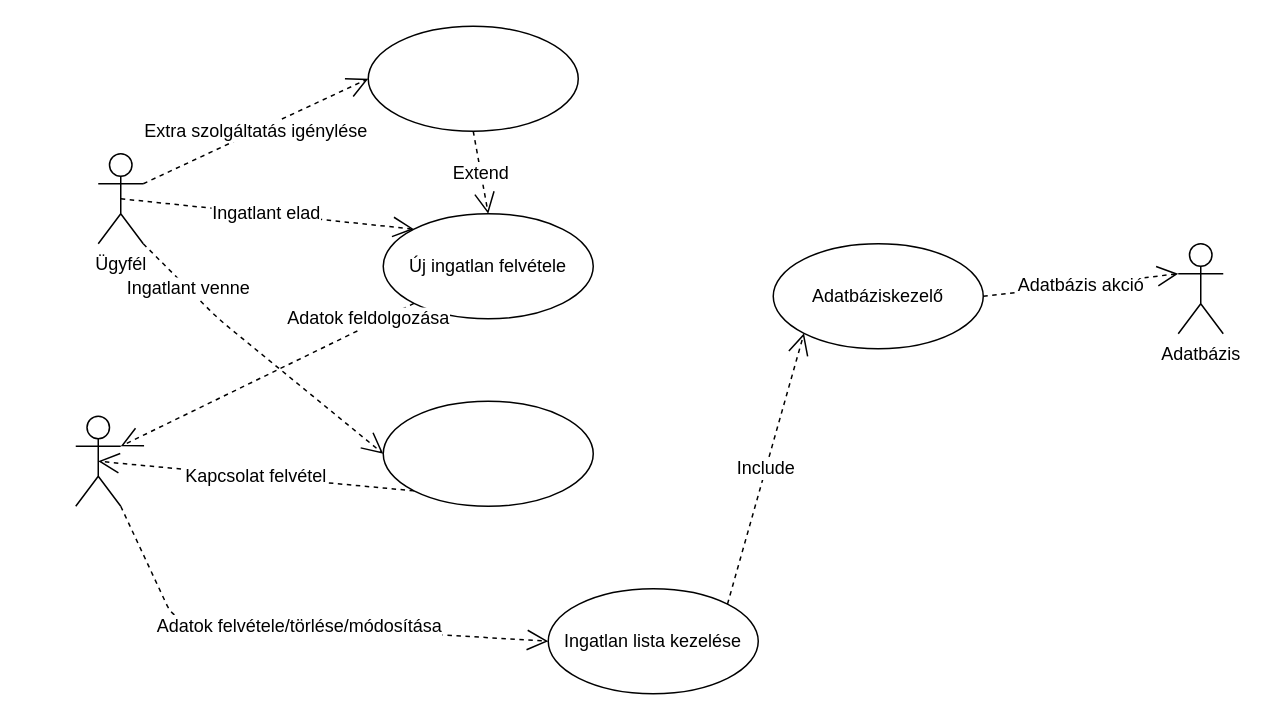
This 1266x720 diagram has some shape labels left out. Here are the shapes that lost their labels. From the top down, the centre of each, then its label:
At point (472, 78): "Kiemelt Hírdetés Aktiválása".
At point (97, 460): "Ingatlanos ügynök".
At point (487, 453): "Vásárlás".
